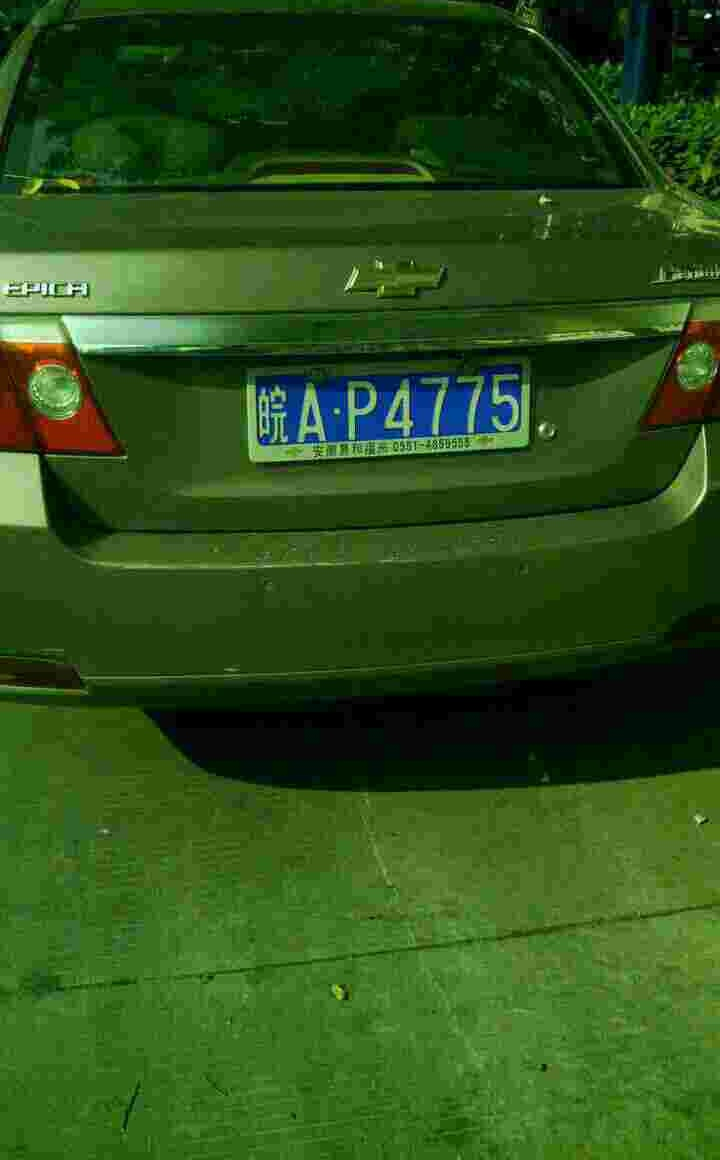car: (246, 368, 529, 448)
